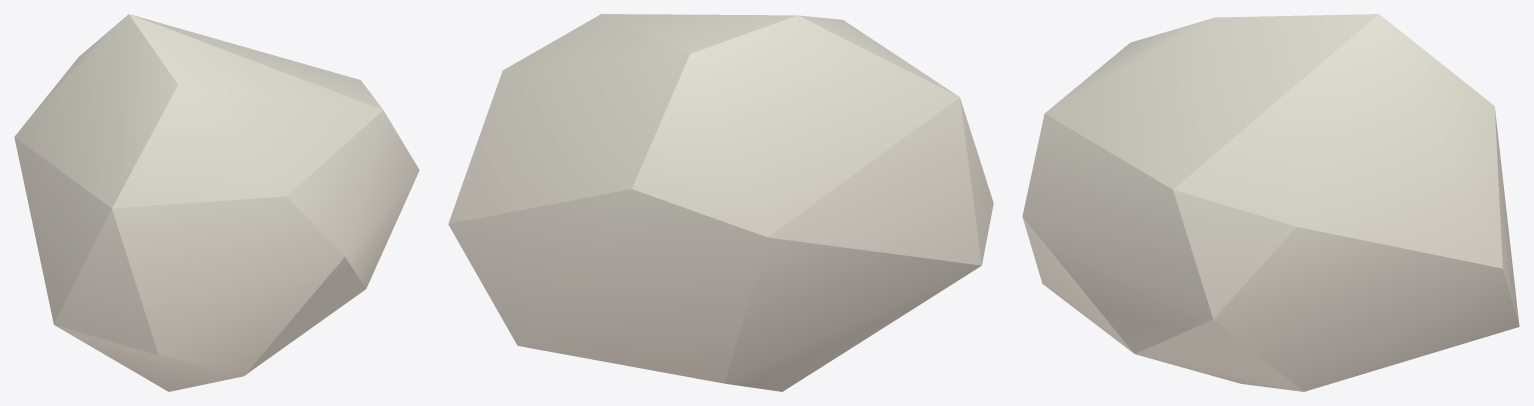
File: rock_01.glb
3 views of the same model, side by side, from view 1: azimuth 30°, elevation 25°; view 2: azimuth 150°, elevation 25°; view 3: azimuth 270°, elevation 25° (orthographic). The views are drawn at different scales.
Visible parts, largest first — view 1: Rock; view 2: Rock; view 3: Rock.
Boxes of the visible parts, box(x1,y1,x2,y2) form: Rock: box(14, 14, 419, 391); Rock: box(448, 14, 993, 391); Rock: box(1022, 14, 1519, 391).
Bounding box in the file's own units: 0.8204 × 0.676 × 0.7995.
1 material, 1 textured.
